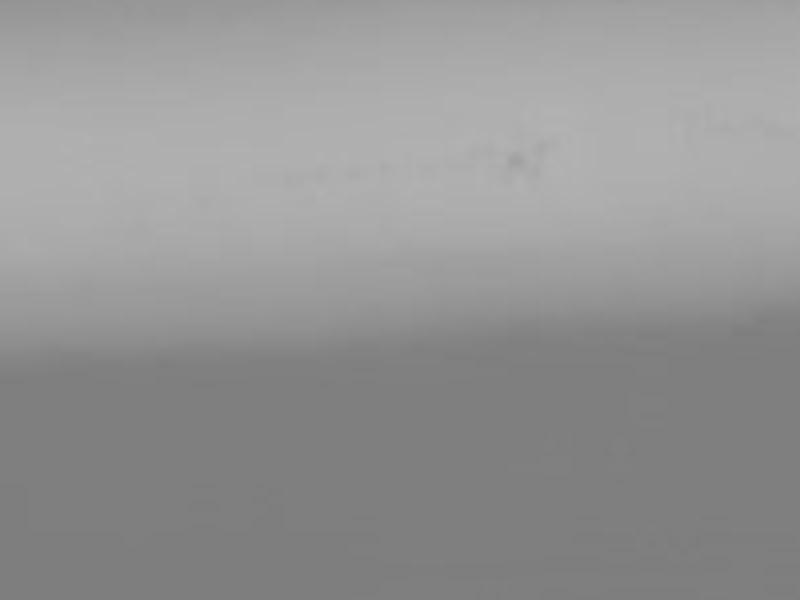defect: (506, 152, 527, 174)
